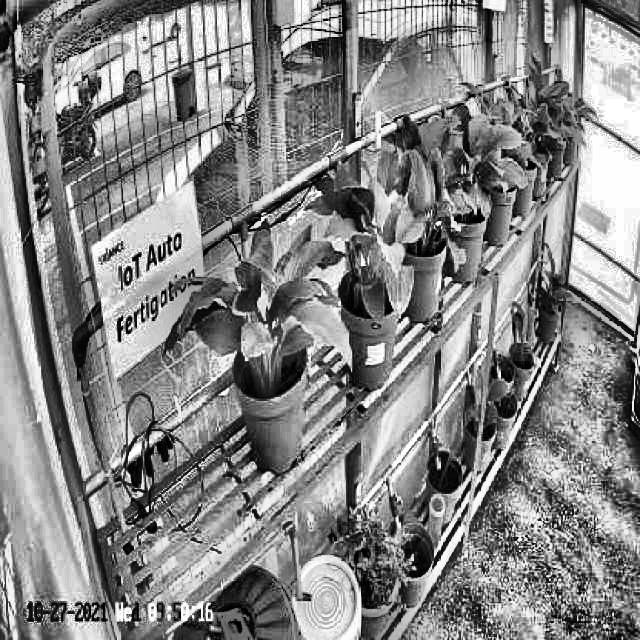plants: (166, 222, 352, 392), (312, 159, 410, 327), (378, 115, 464, 278), (432, 92, 528, 212)
